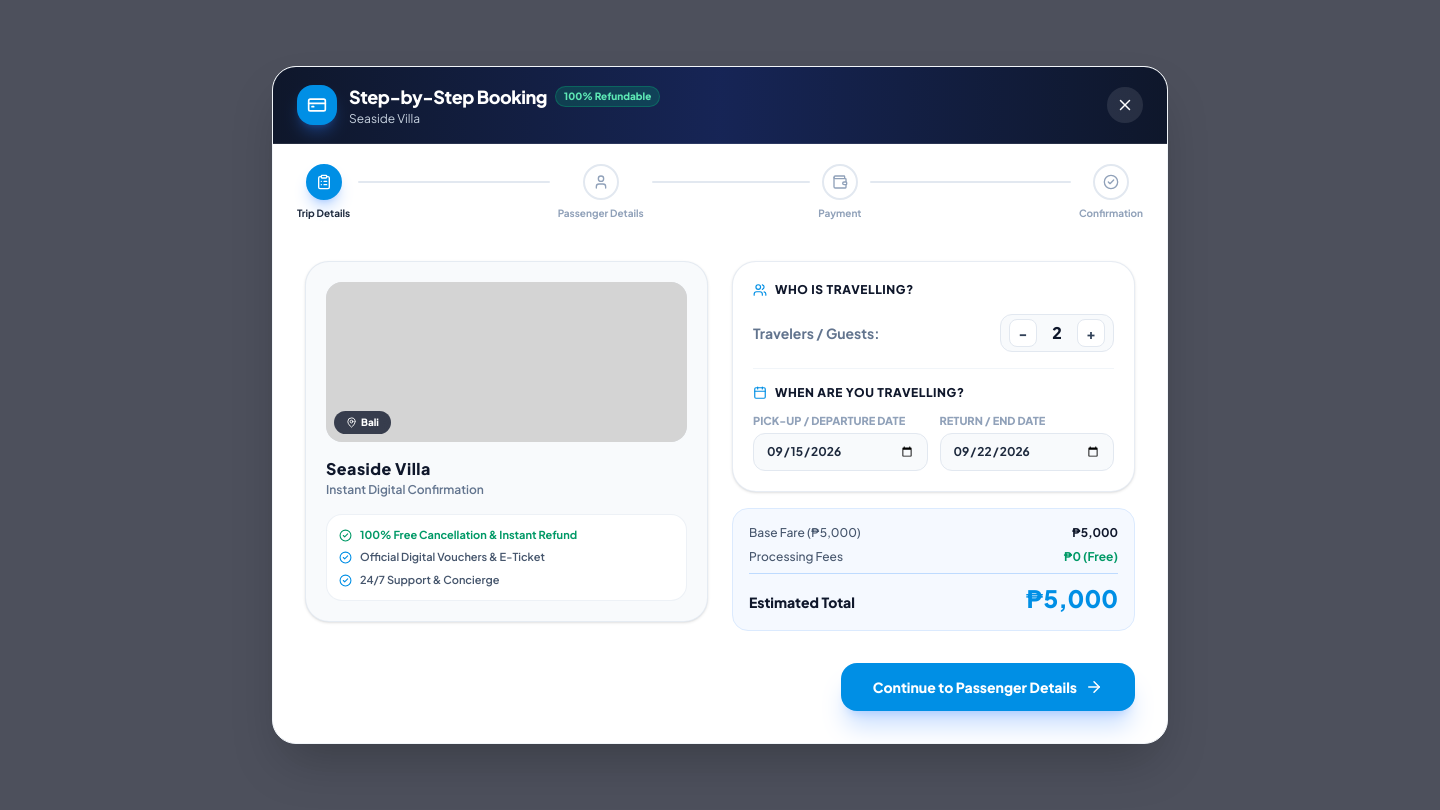
BookingCheckoutModal promo application › applies a valid code and shows the discounted total on step 1 & 3
This screenshot has width=1440, height=810.
Click the button "Continue to Passenger Details": click(988, 687) [841, 663, 1135, 711]
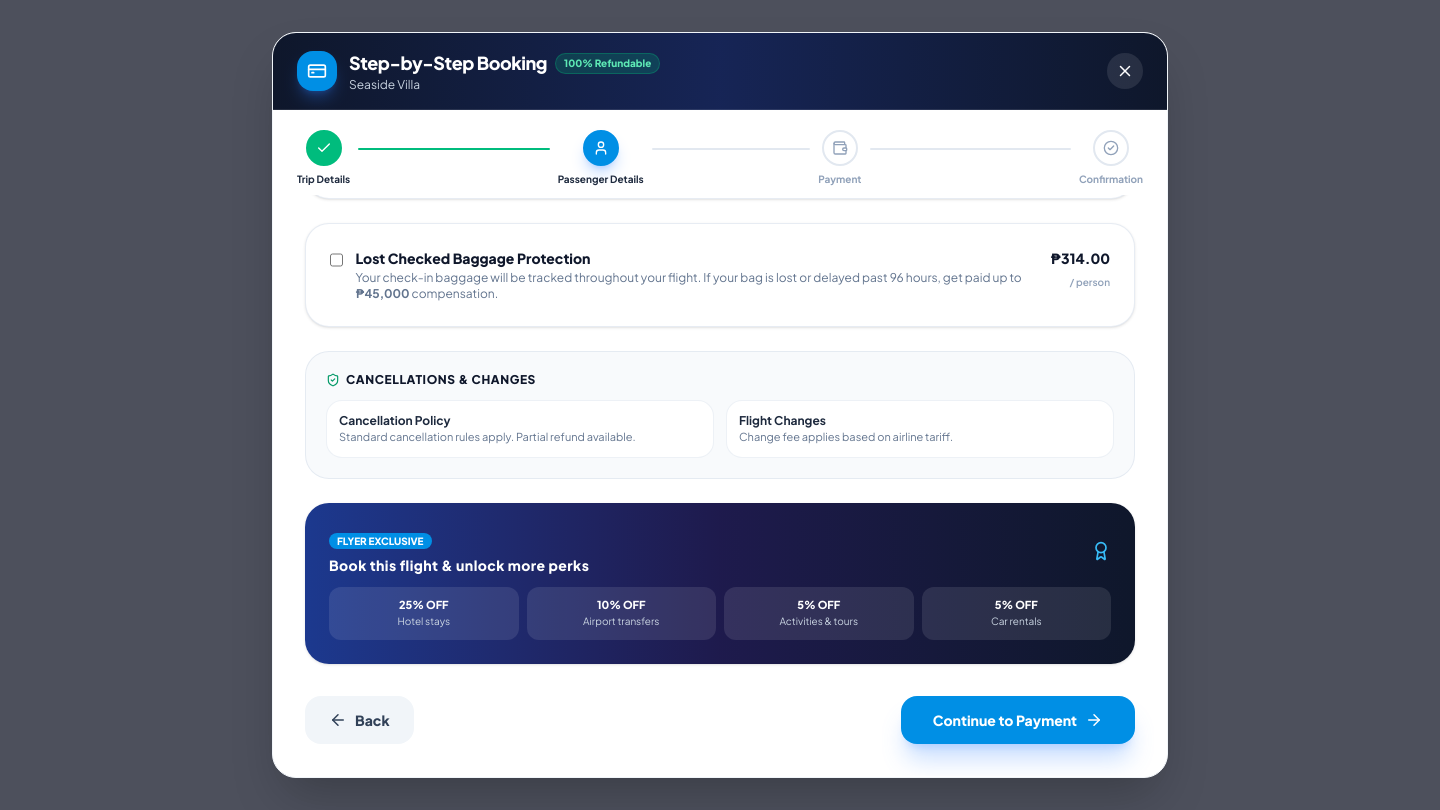
Click the button "Continue to Payment": click(1018, 720) [901, 696, 1135, 744]
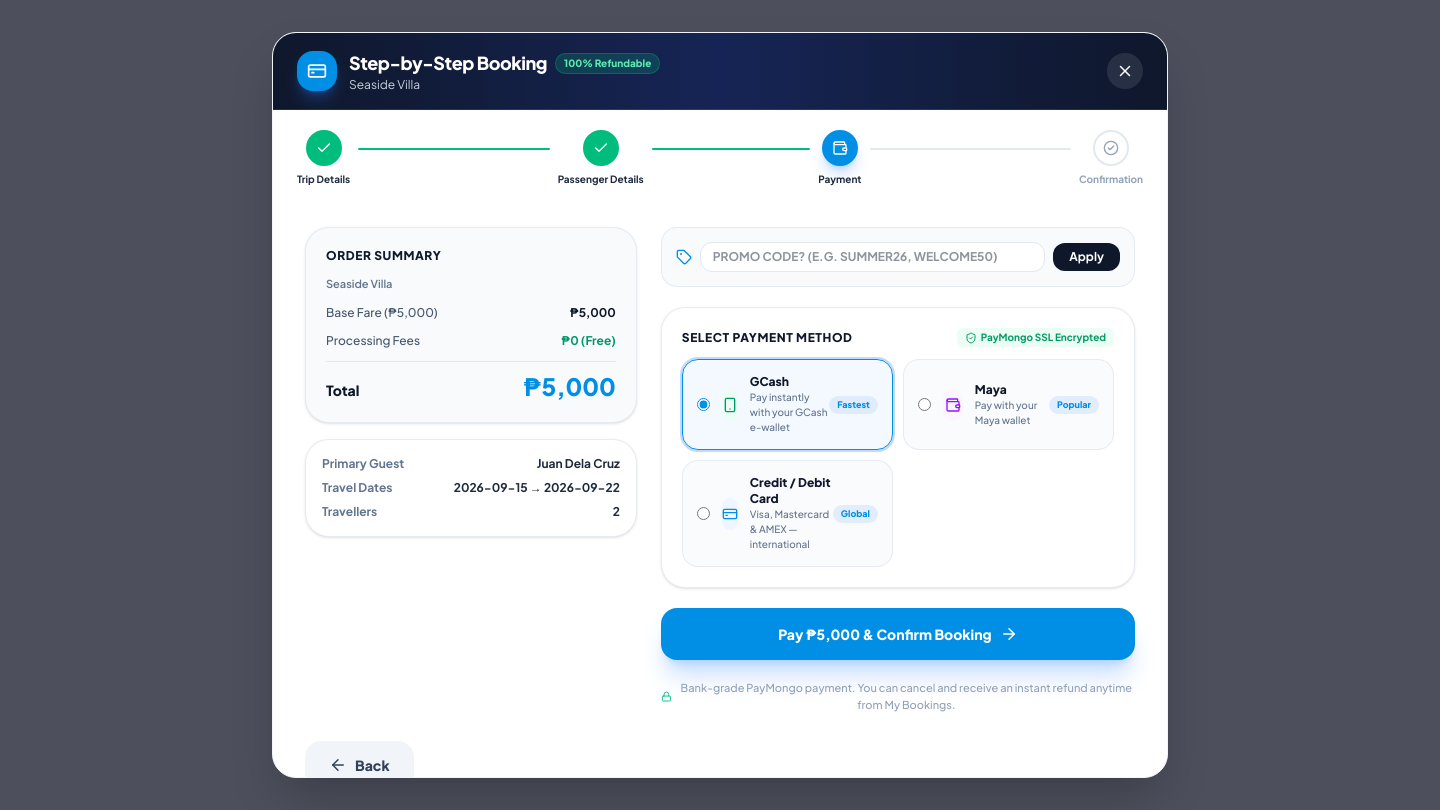
In the field with placeholder "Promo code? (e.g. SUMMER26, WELCOME50)": (872, 257) [700, 242, 1045, 272], type "SUMMER26"
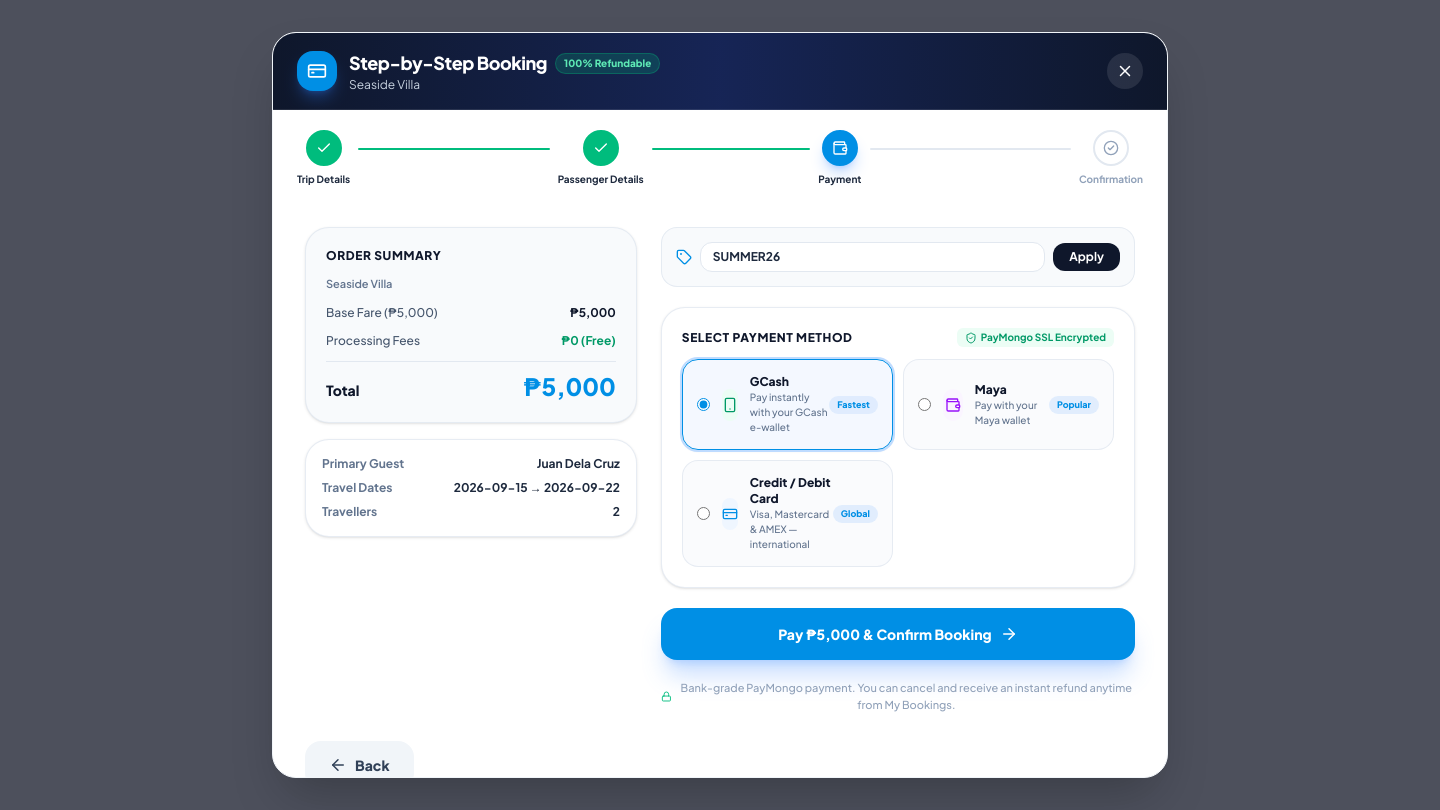
Click the button "Apply": click(1087, 257) [1053, 243, 1120, 271]
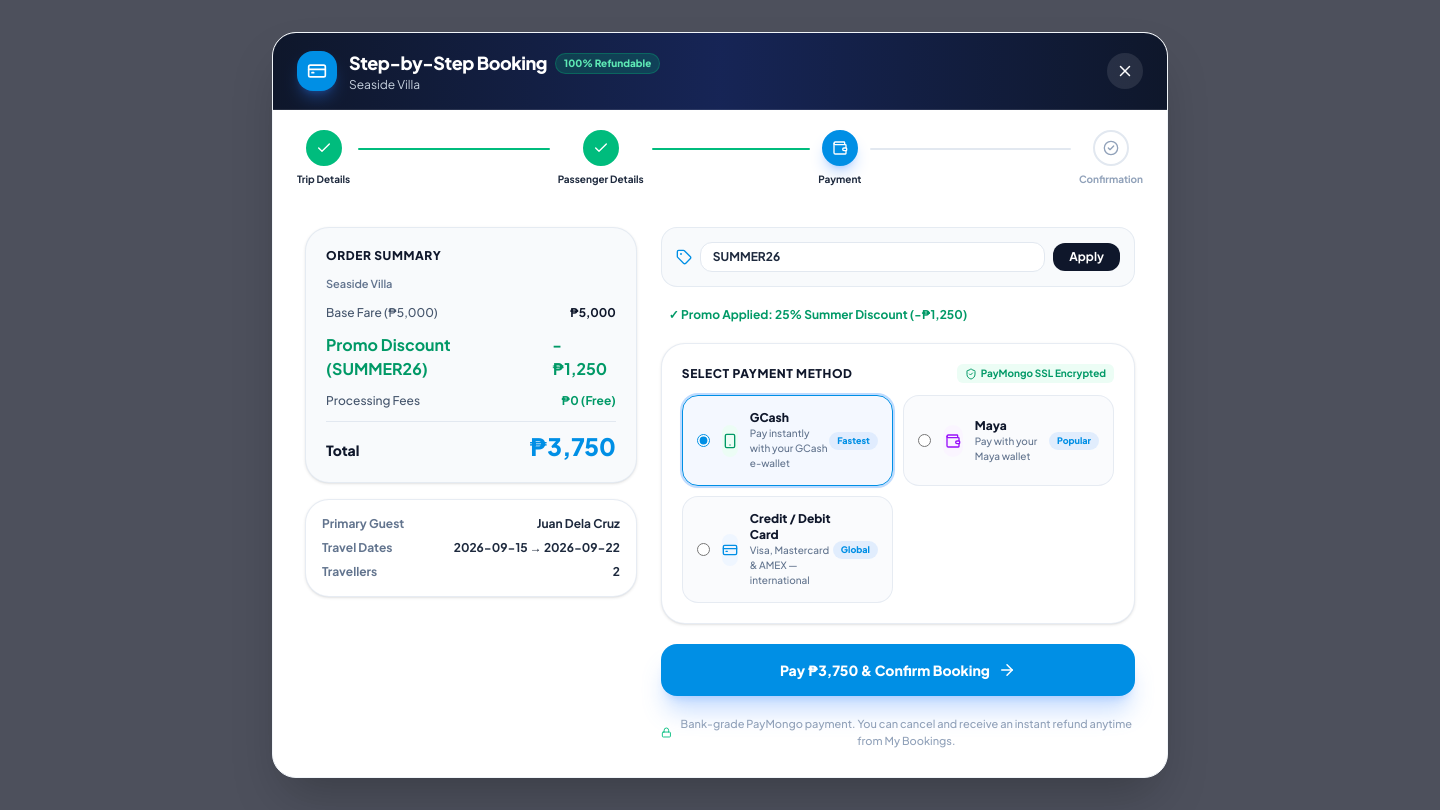
Now the text "✓ Promo Applied: 25% Summer Discount (-₱1,250)" is shown, box [669, 307, 967, 322]
Now the text "-₱1,250" is shown, box [552, 333, 616, 381]
Now the text "₱3,750" is shown, box [529, 430, 616, 462]
